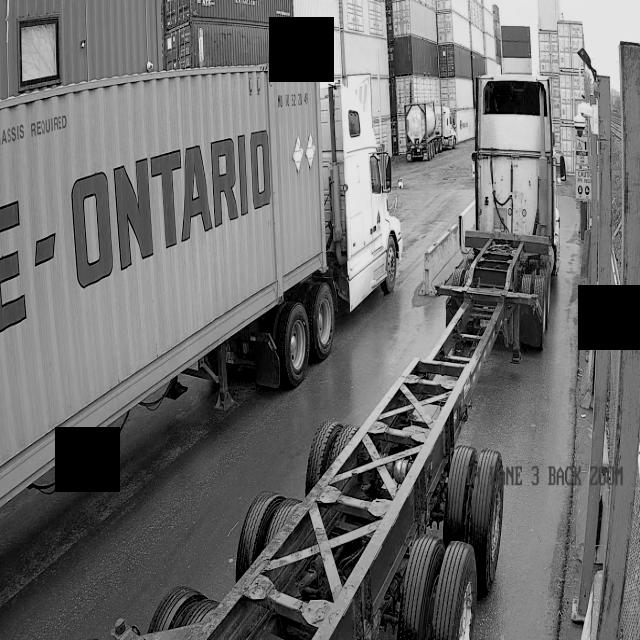truck_with_container: (0, 63, 404, 506)
truck_without_container: (112, 74, 566, 640)
